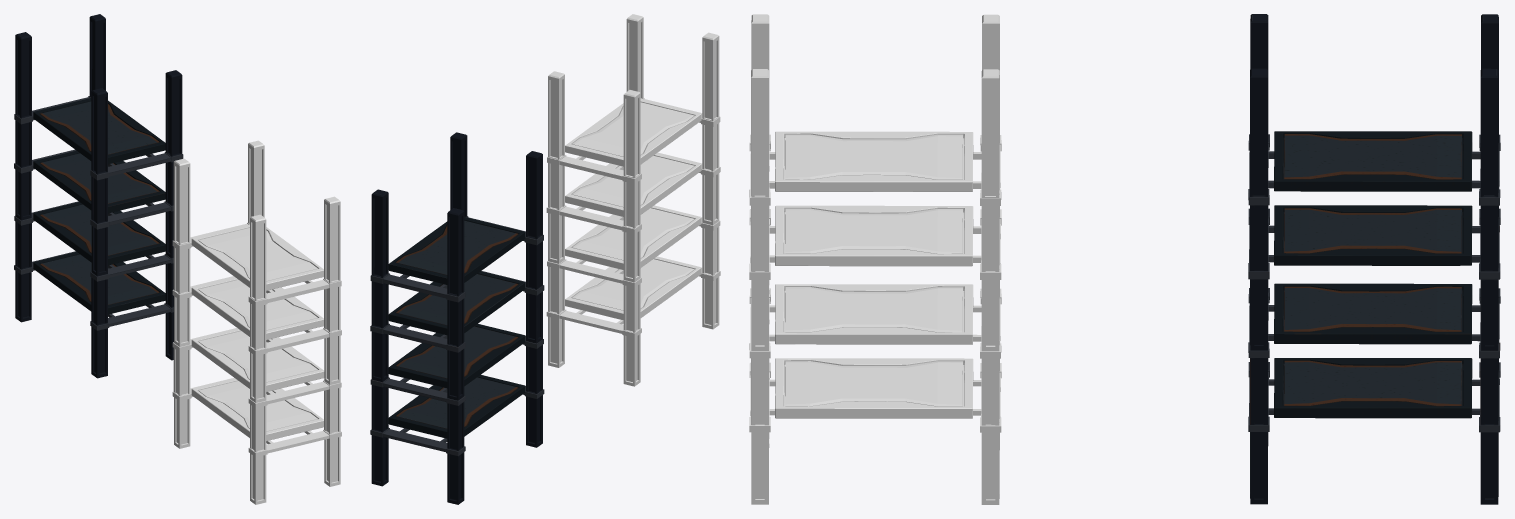
The model's file is scifi estanteria fbx1.fbx.
3 renders of one model, left to right at view 1: azimuth 30°, elevation 25°; view 2: azimuth 150°, elevation 25°; view 3: azimuth 270°, elevation 25°, orthographic. The views are drawn at different scales.
Visible parts, largest first — view 1: Estanteria .002, Estanteria .001; view 2: Estanteria .002, Estanteria .001; view 3: Estanteria .002, Estanteria .001.
Part boxes in pixels (<box>): Estanteria .002: <box>172,140,341,504</box>; Estanteria .001: <box>14,14,183,378</box>; Estanteria .002: <box>546,14,720,386</box>; Estanteria .001: <box>370,132,544,504</box>; Estanteria .002: <box>749,14,1001,504</box>; Estanteria .001: <box>1248,14,1500,504</box>.
Bounding box in the file's own units: 123 × 362 × 568.
